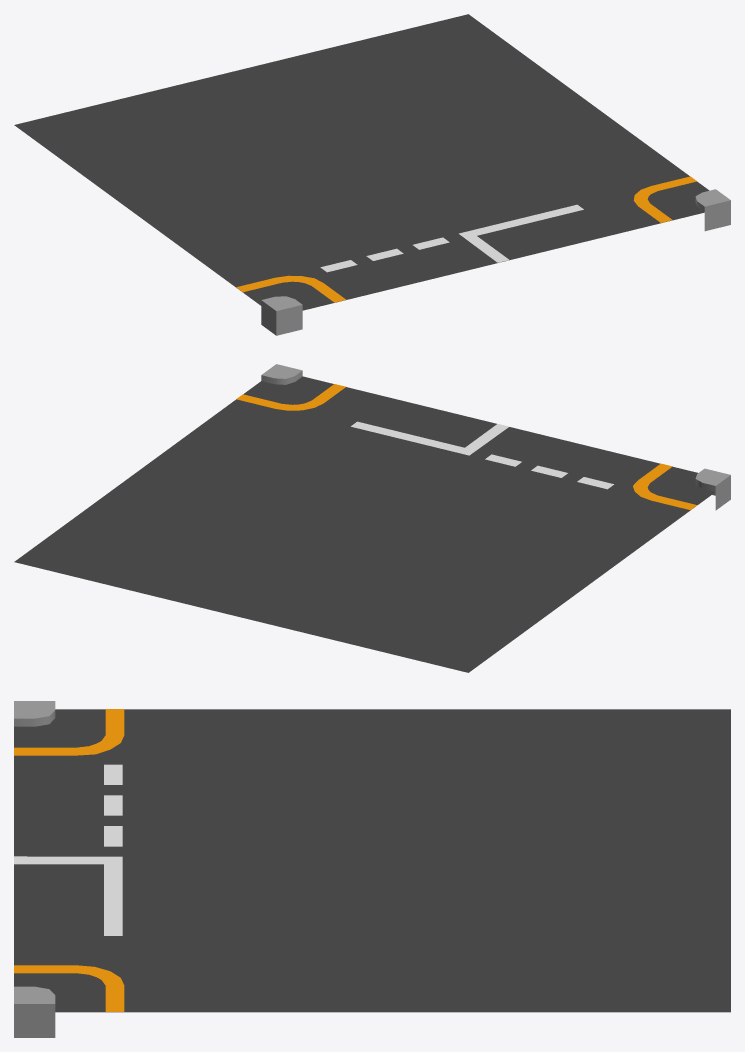
The model's file is ParkingRoad_A_1.fbx.
3 renders of one model, top to bottom at view 1: azimuth 30°, elevation 25°; view 2: azimuth 150°, elevation 25°; view 3: azimuth 270°, elevation 25°, orthographic. The views are drawn at different scales.
Visible parts, largest first — view 1: ParkingRoad_A_1; view 2: ParkingRoad_A_1; view 3: ParkingRoad_A_1.
Boxes of the visible parts, x1,y1,x2,y2 form: ParkingRoad_A_1: (14, 14, 730, 335); ParkingRoad_A_1: (14, 364, 730, 672); ParkingRoad_A_1: (14, 701, 730, 1037).
Size of the model in its own units: 800 by 41.48 by 800.
